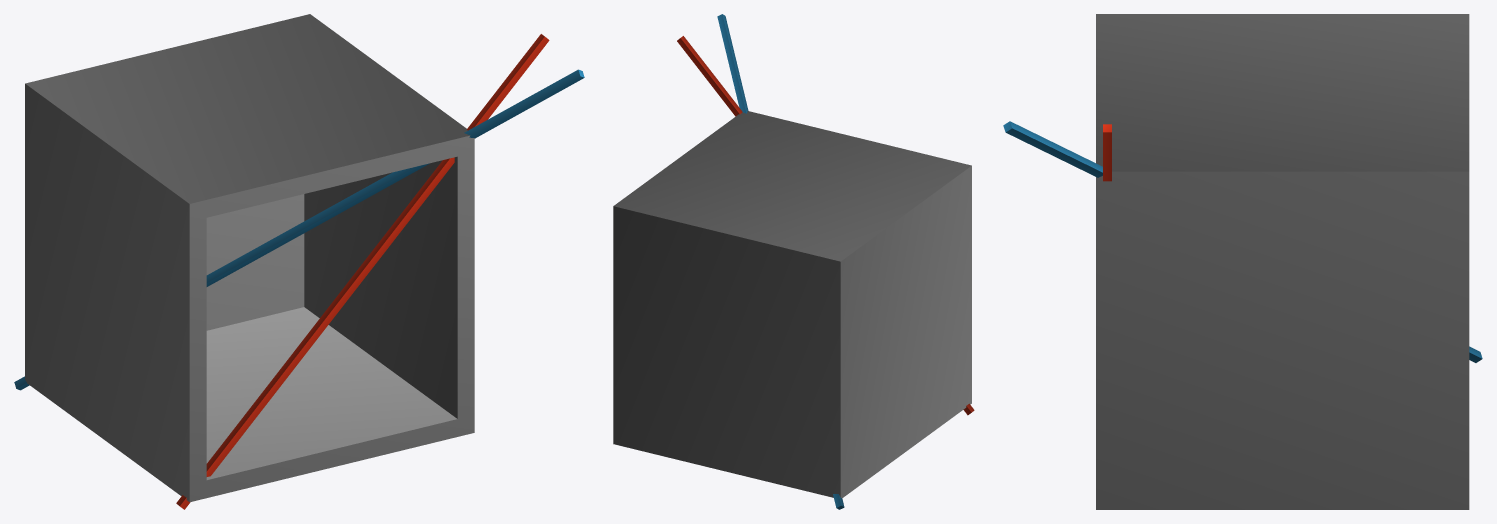
3 renders of one model, left to right at view 1: azimuth 30°, elevation 25°; view 2: azimuth 150°, elevation 25°; view 3: azimuth 270°, elevation 25°, orthographic. The views are drawn at different scales.
Visible parts, largest first — view 1: Cube, Cube.002, Cube.001; view 2: Cube, Cube.001, Cube.002; view 3: Cube, Cube.001.
Boxes of the visible parts, bbox=[...] form: Cube: bbox=[25, 14, 474, 502]; Cube.002: bbox=[176, 34, 549, 509]; Cube.001: bbox=[14, 69, 584, 390]; Cube: bbox=[613, 111, 971, 497]; Cube.001: bbox=[717, 14, 844, 509]; Cube.002: bbox=[677, 36, 974, 415]; Cube: bbox=[1096, 14, 1469, 509]; Cube.001: bbox=[1003, 121, 1482, 362].
Size of the model in its own units: 2.6 by 2.59 by 2.57.
1 material, 1 textured.
